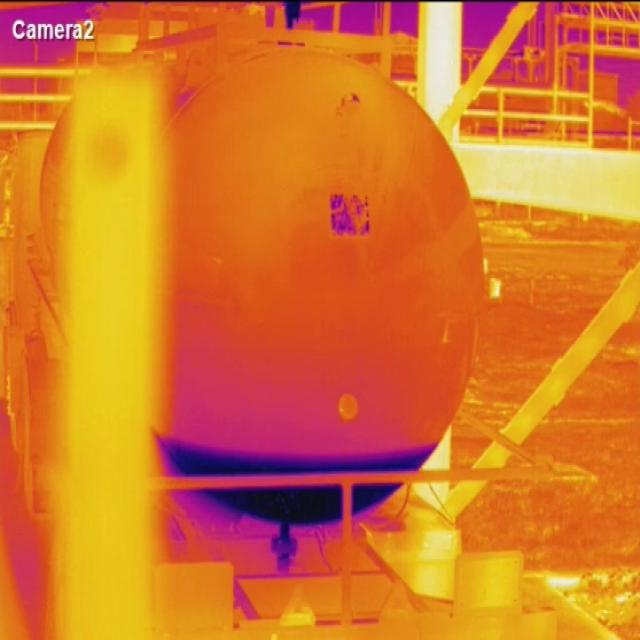tank: (159, 45, 485, 524)
